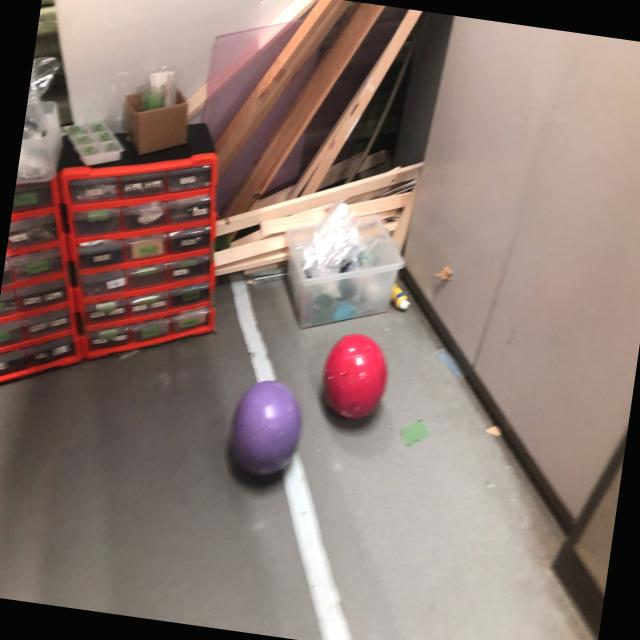purple_ball: (224, 374, 308, 481)
red_ball: (318, 334, 392, 427)
